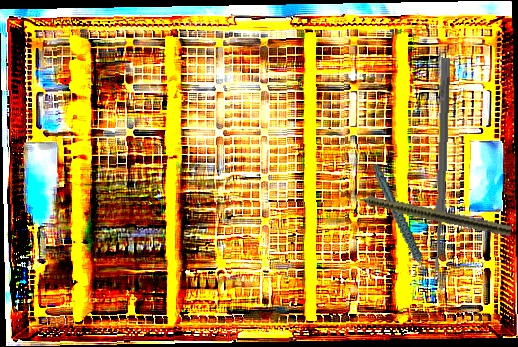Handpiece: (335, 186, 513, 238), (371, 158, 429, 287)
Surgical Spoon: (431, 57, 451, 284)
